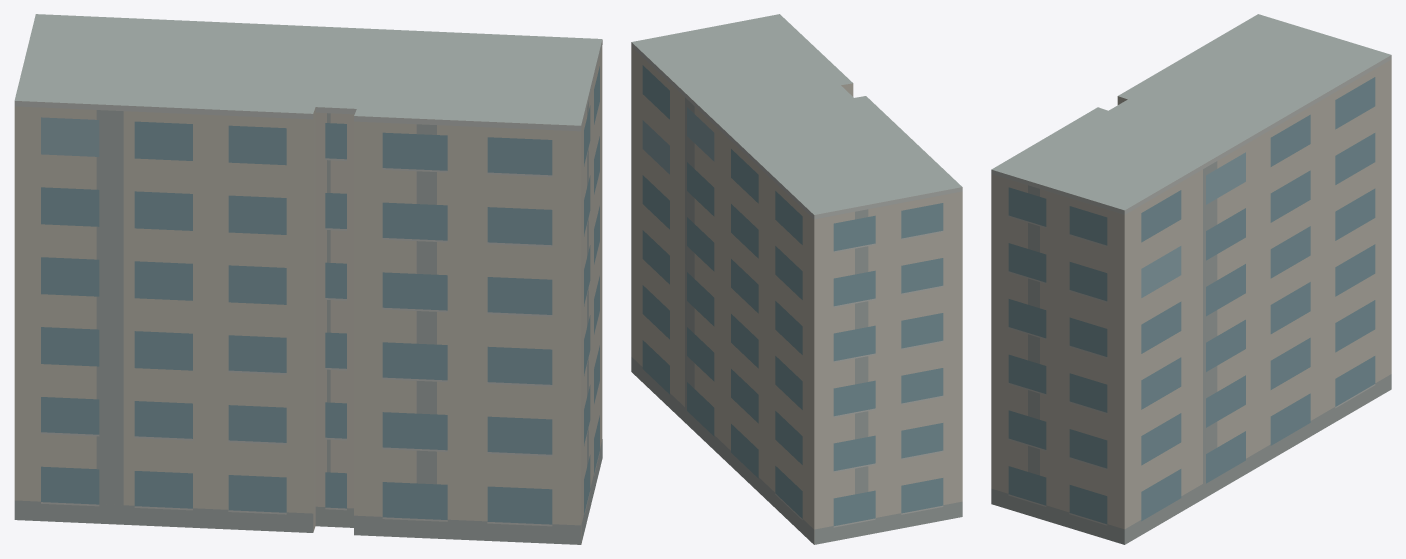
Rendered from survey-upis-33006886.glb.
The picture shows the model from 3 angles, left to right: view 1: azimuth 30°, elevation 25°; view 2: azimuth 150°, elevation 25°; view 3: azimuth 270°, elevation 25°; orthographic projection. The views are drawn at different scales.
Visible parts, largest first — view 1: survey-upis-33006886.tmp; view 2: survey-upis-33006886.tmp; view 3: survey-upis-33006886.tmp.
Boxes of the visible parts, x1,y1,x2,y2 form: survey-upis-33006886.tmp: (14,14,602,544); survey-upis-33006886.tmp: (631,14,962,544); survey-upis-33006886.tmp: (991,14,1391,544).
Size of the model in its own units: 23.05 by 18.3 by 19.86.
